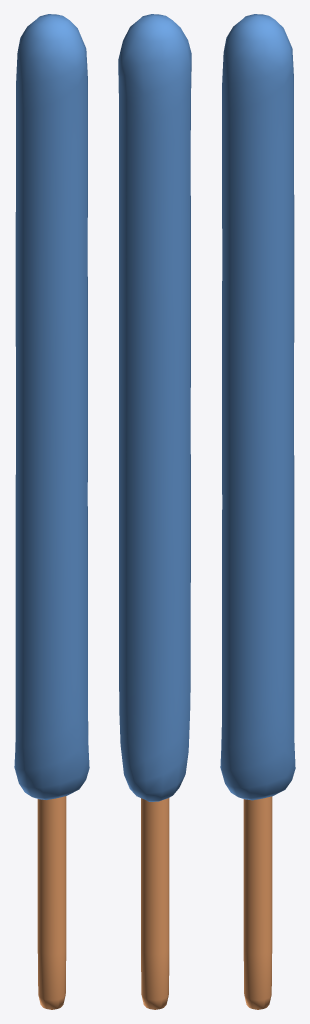
File: Pokka_02.fbx
3 views of the same model, side by side, from view 1: azimuth 90°, elevation 25°; view 2: azimuth 150°, elevation 25°; view 3: azimuth 270°, elevation 25° (orthographic).
Visible parts, largest first — view 1: Pokka_02_LOD0; view 2: Pokka_02_LOD0; view 3: Pokka_02_LOD0.
Part boxes in pixels (x1,y1,x2,y2): Pokka_02_LOD0: [14, 14, 89, 1009]; Pokka_02_LOD0: [118, 14, 191, 1009]; Pokka_02_LOD0: [220, 14, 295, 1009].
Size of what is drawn, in the model's own units: 83.63 by 1275 by 87.56.
